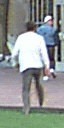person: (11, 19, 53, 111)
